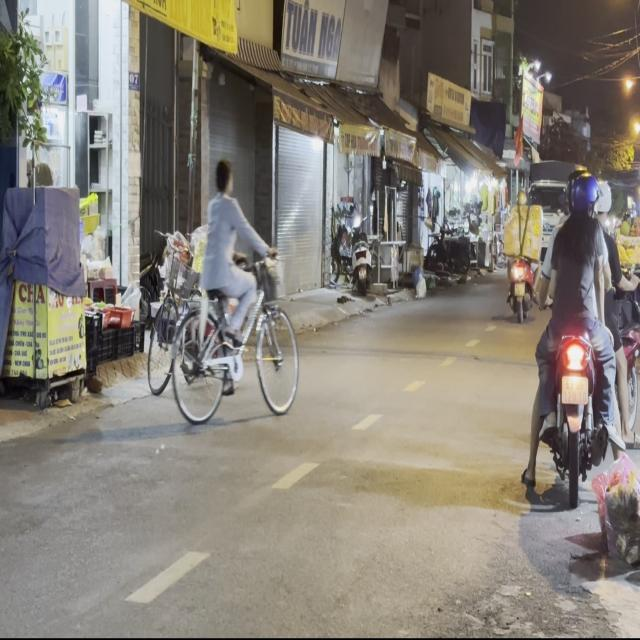helmet: (568, 171, 597, 217), (593, 178, 612, 220)
licenseplate: (522, 161, 636, 503)
nohelmet: (562, 375, 588, 405)
